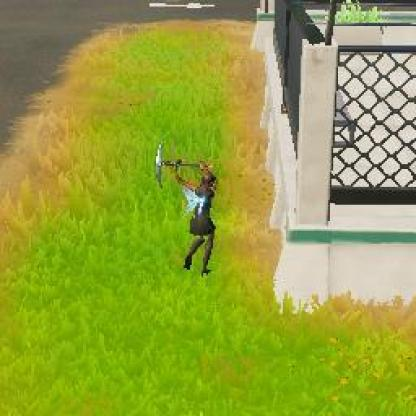dumpster: (174, 159, 218, 278)
